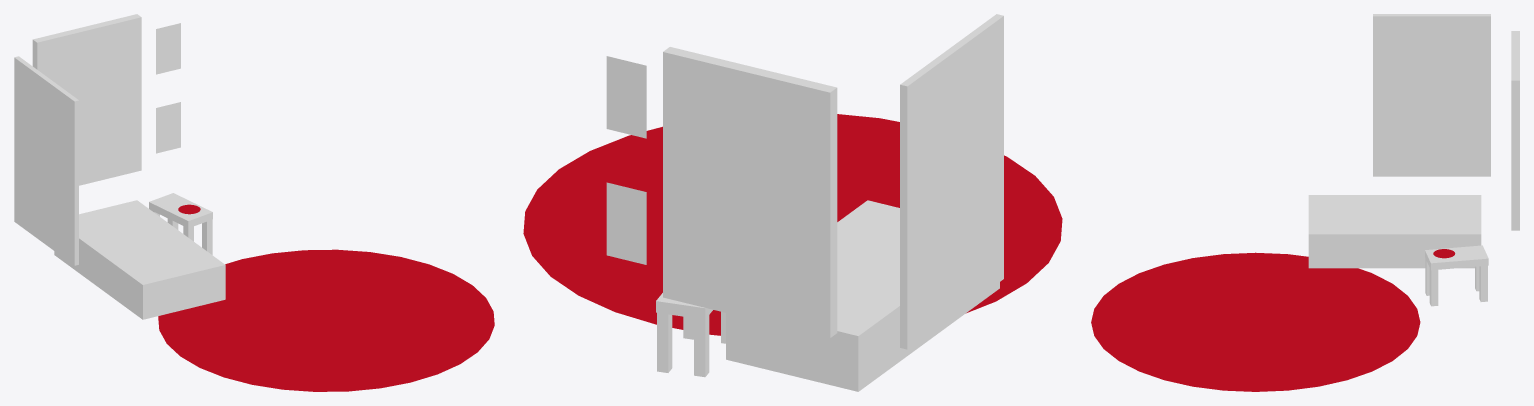
The model's file is room.glb.
3 views of the same model, side by side, from view 1: azimuth 30°, elevation 25°; view 2: azimuth 150°, elevation 25°; view 3: azimuth 270°, elevation 25° (orthographic). The views are drawn at different scales.
Parts seen in each view (by area): view 1: Circle, Plane.001, Cube, Plane.002, Cube.001, Plane.003, Plane.004; view 2: Plane.001, Circle, Plane.002, Cube, Plane.004, Plane.003, Cube.004, Cube.005, Cube.001; view 3: Circle, Plane.002, Cube, Plane.001, Cube.001.
Part boxes in pixels (x1,y1,x2,y2): Circle: (158, 249, 494, 391); Plane.001: (32, 14, 141, 185); Cube: (54, 200, 225, 319); Plane.002: (14, 56, 78, 265); Cube.001: (149, 193, 212, 228); Plane.003: (156, 102, 180, 153); Plane.004: (156, 23, 180, 74); Plane.001: (663, 47, 837, 337); Circle: (523, 114, 1062, 335); Plane.002: (900, 14, 1003, 349); Cube: (726, 200, 999, 391); Plane.004: (606, 56, 646, 138); Plane.003: (606, 182, 646, 264); Cube.004: (657, 313, 672, 372); Cube.005: (694, 315, 709, 377); Cube.001: (656, 293, 712, 319); Circle: (1091, 252, 1420, 391); Plane.002: (1373, 14, 1490, 176); Cube: (1308, 195, 1481, 268); Plane.001: (1511, 31, 1519, 230); Cube.001: (1425, 245, 1488, 270).
Size of the model in its own units: 1.56 by 0.9801 by 1.76.
